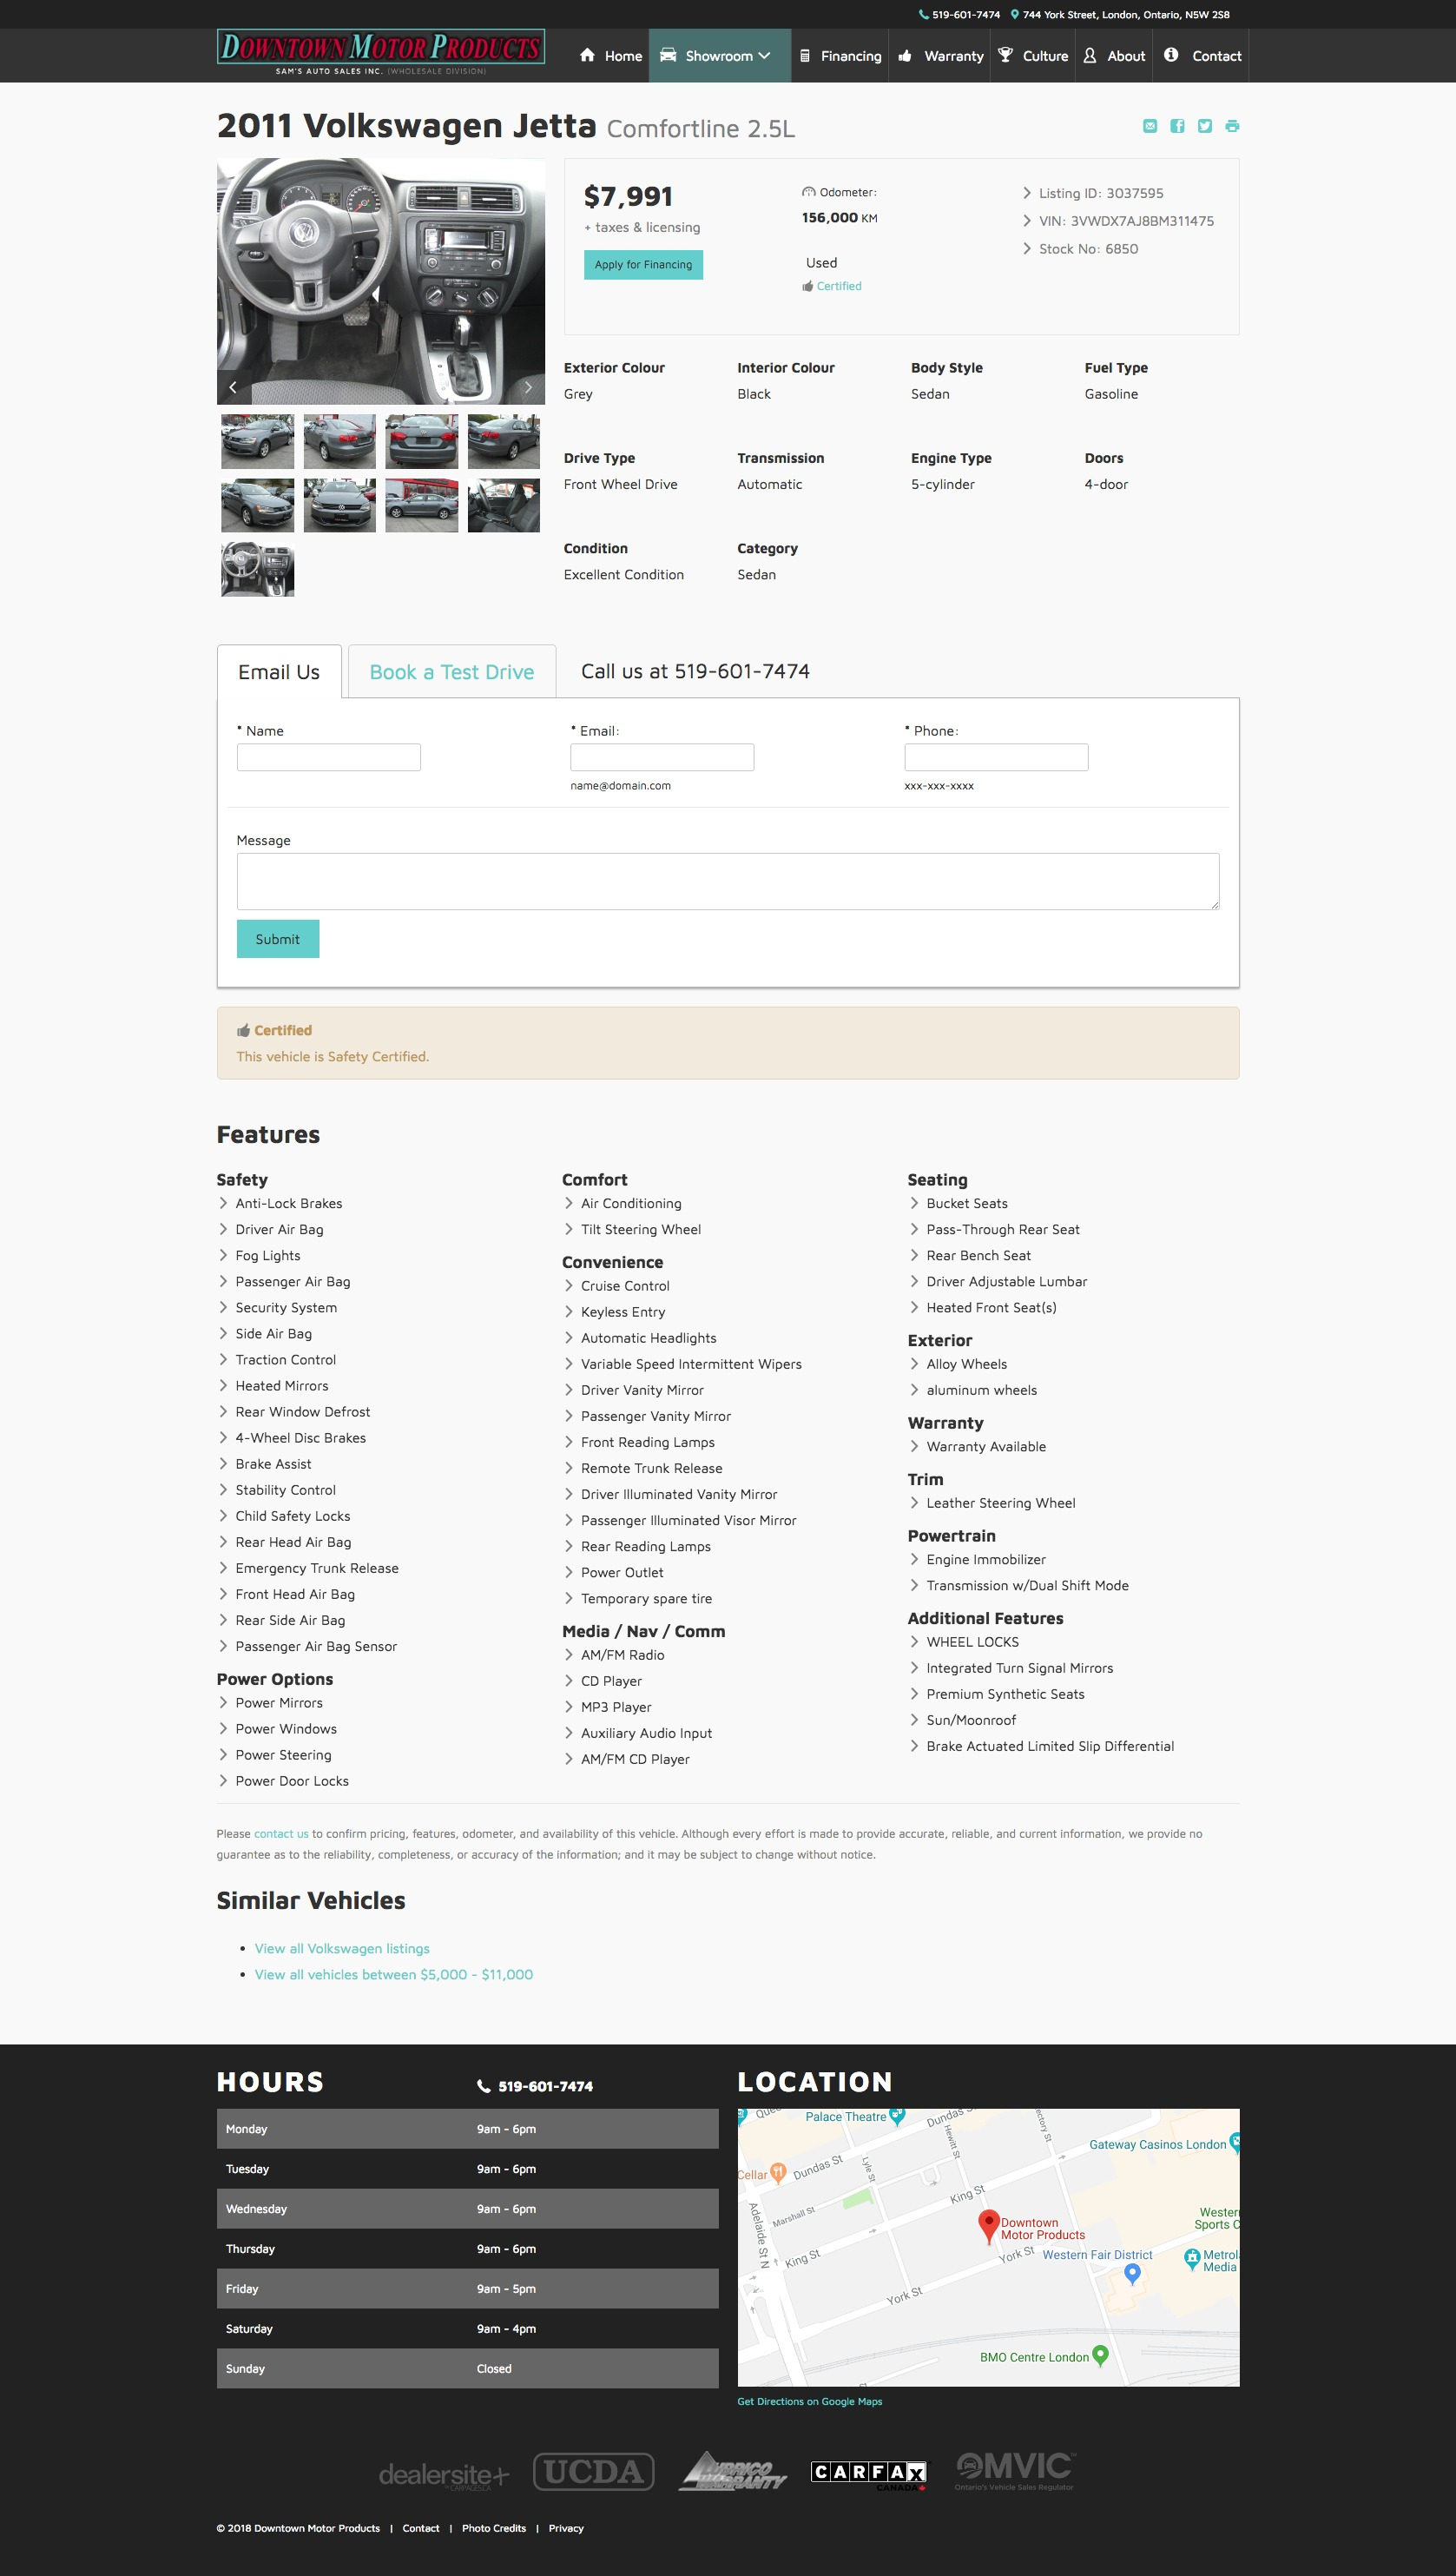car: (525, 382, 533, 395)
